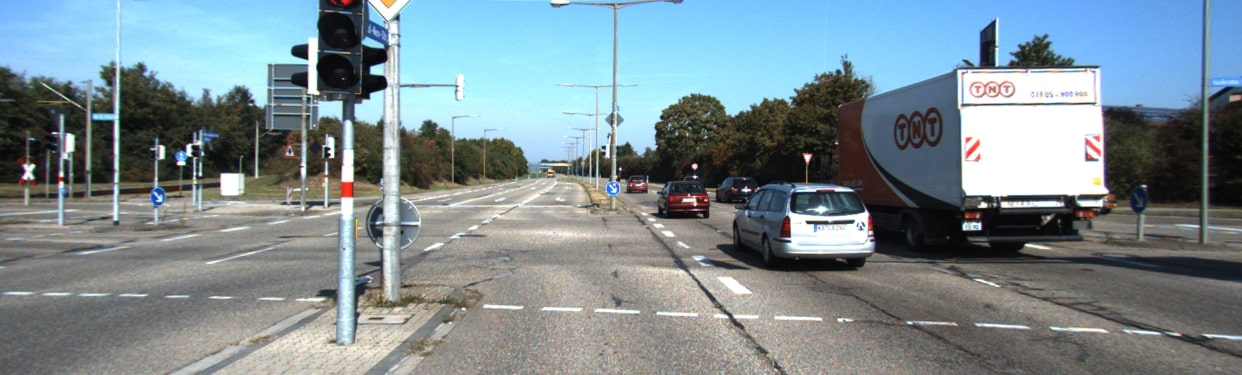car: (862, 63, 1103, 247), (734, 188, 859, 268), (653, 177, 714, 224), (626, 174, 652, 197)
